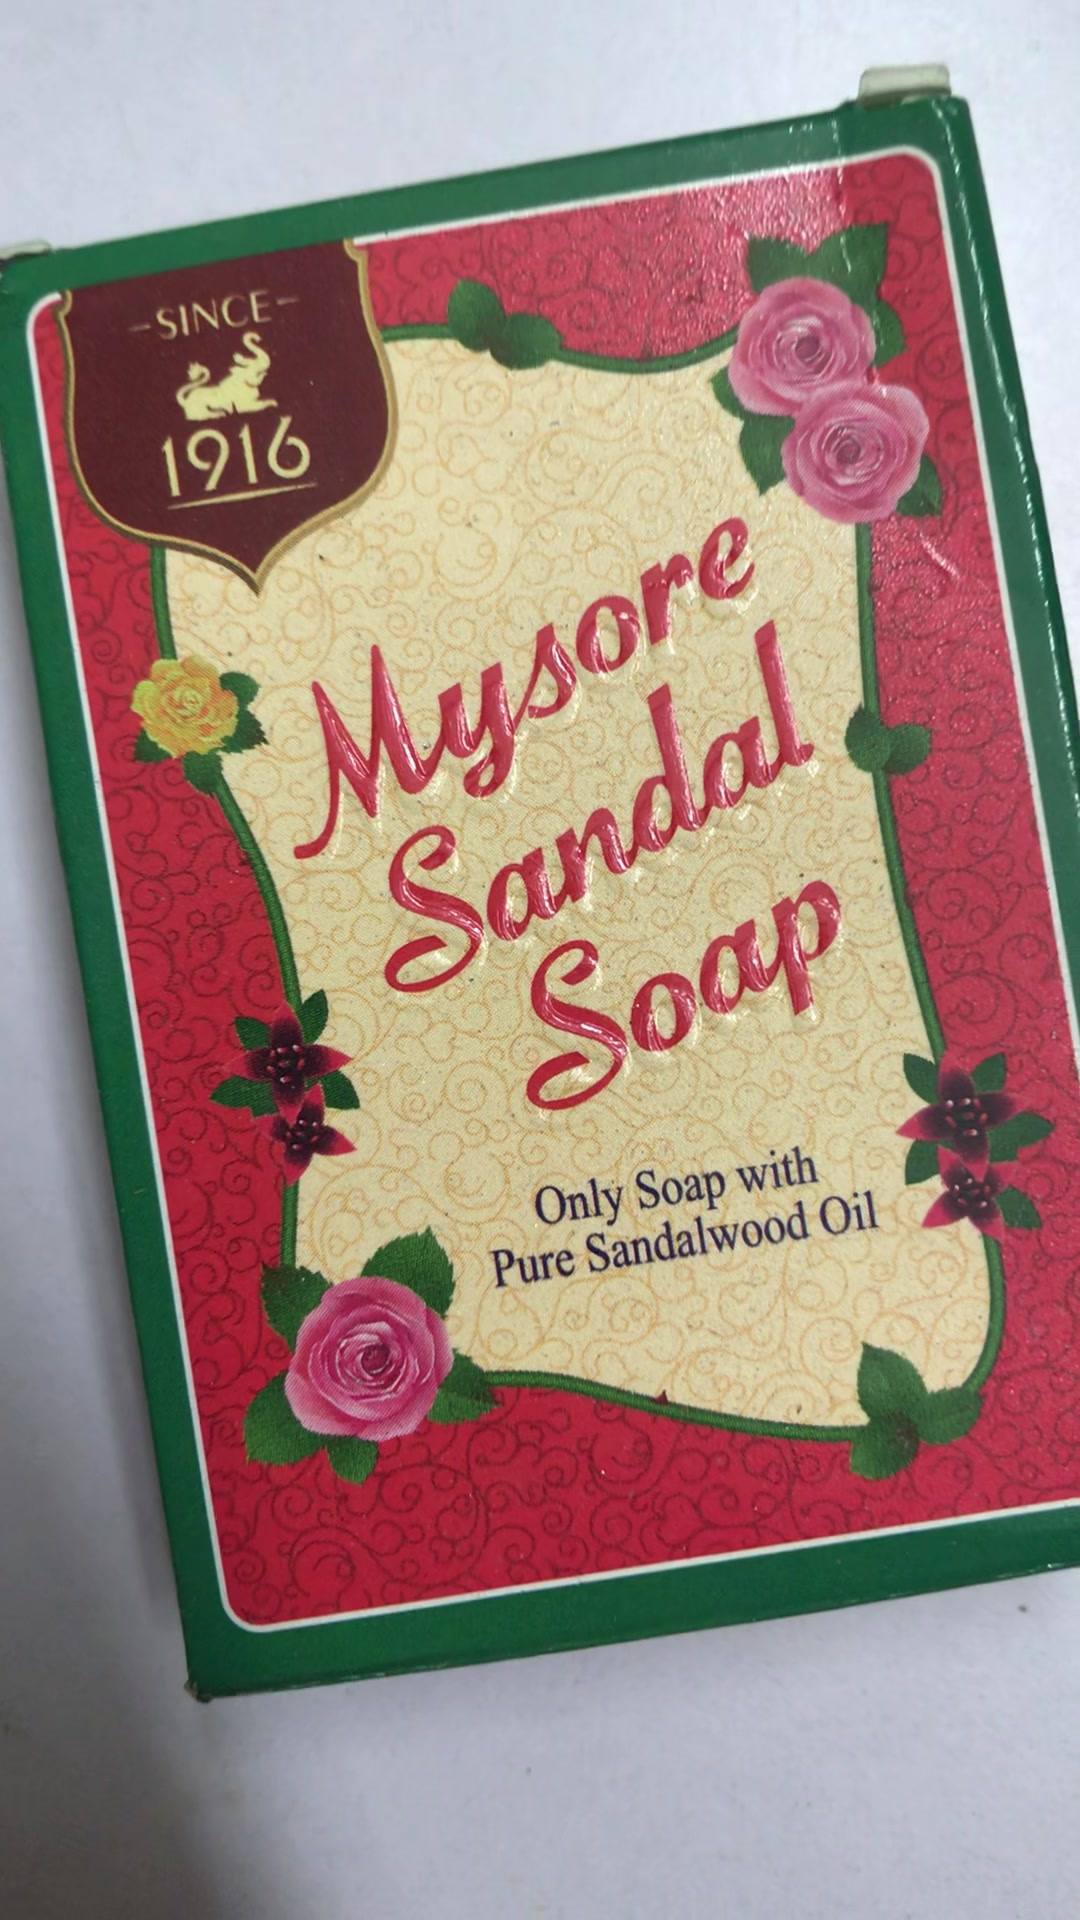mysore sandal soap: (5, 88, 1072, 1713)
